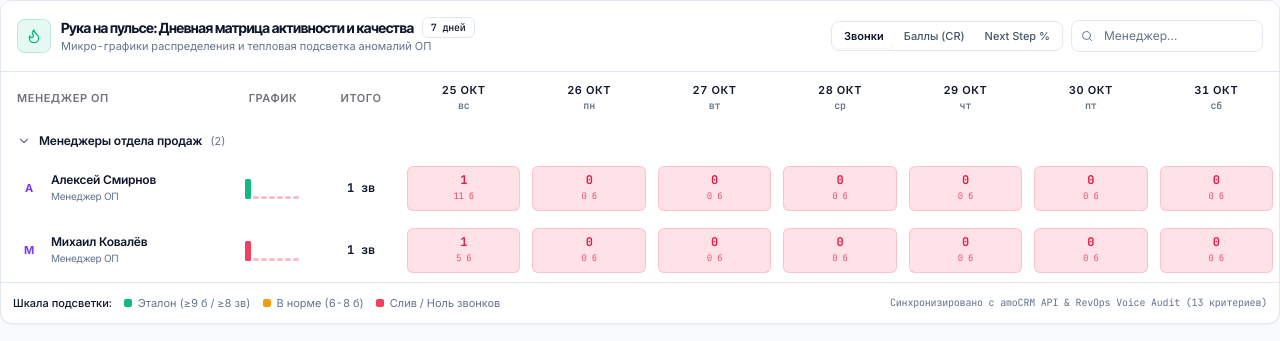
Scenario: DailyPulseMatrix › filters managers when search query is entered
Step 1. Type "Алексей" into the field with placeholder "Менеджер..." → (1167, 36), box [1071,20,1263,52]
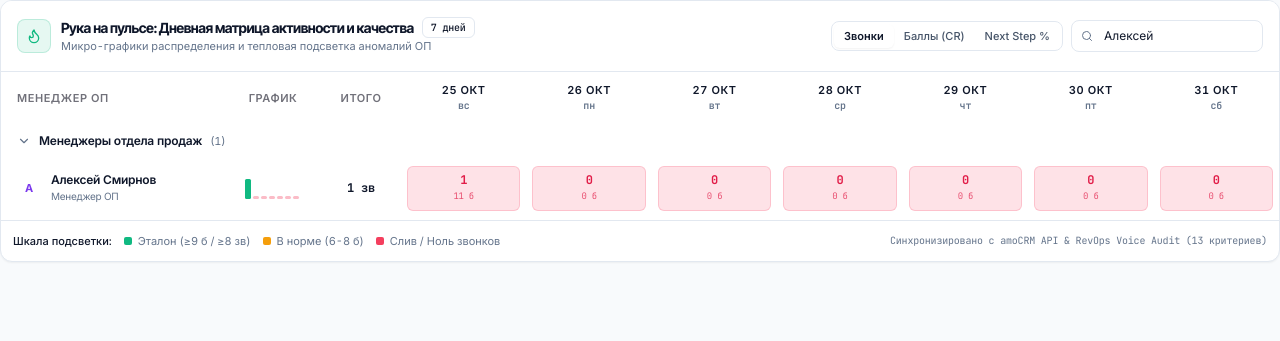
Expected: the text "Алексей Смирнов" is shown, [51,172,156,188]
Result: the text "Михаил Ковалёв" is gone
